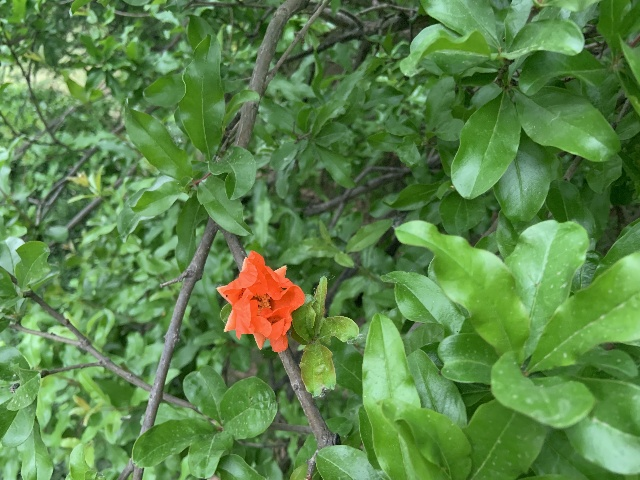flower: (217, 250, 305, 352)
